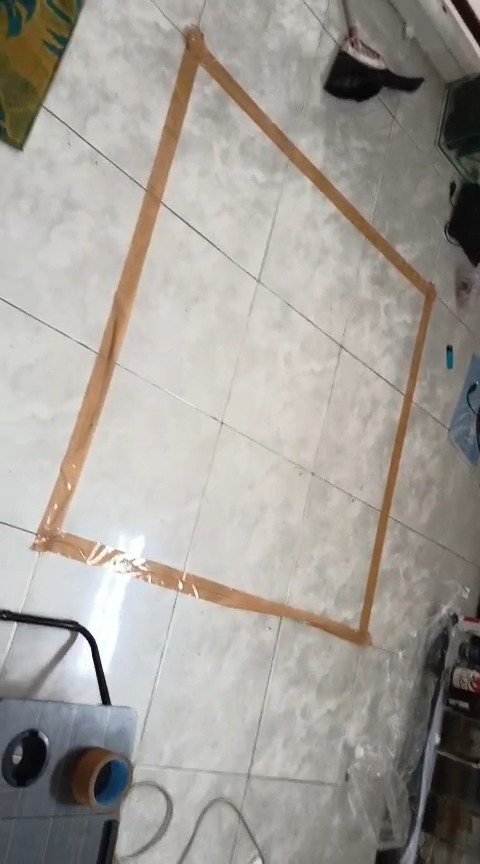floor marking: (33, 26, 434, 643)
